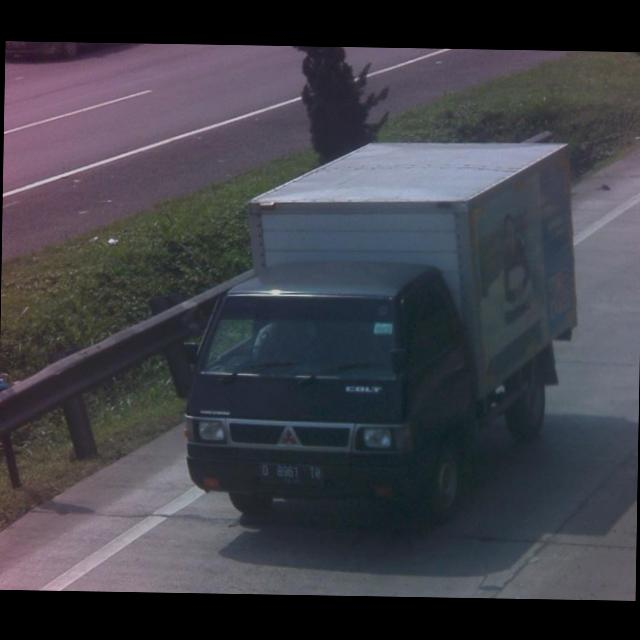plate: (257, 459, 323, 485)
